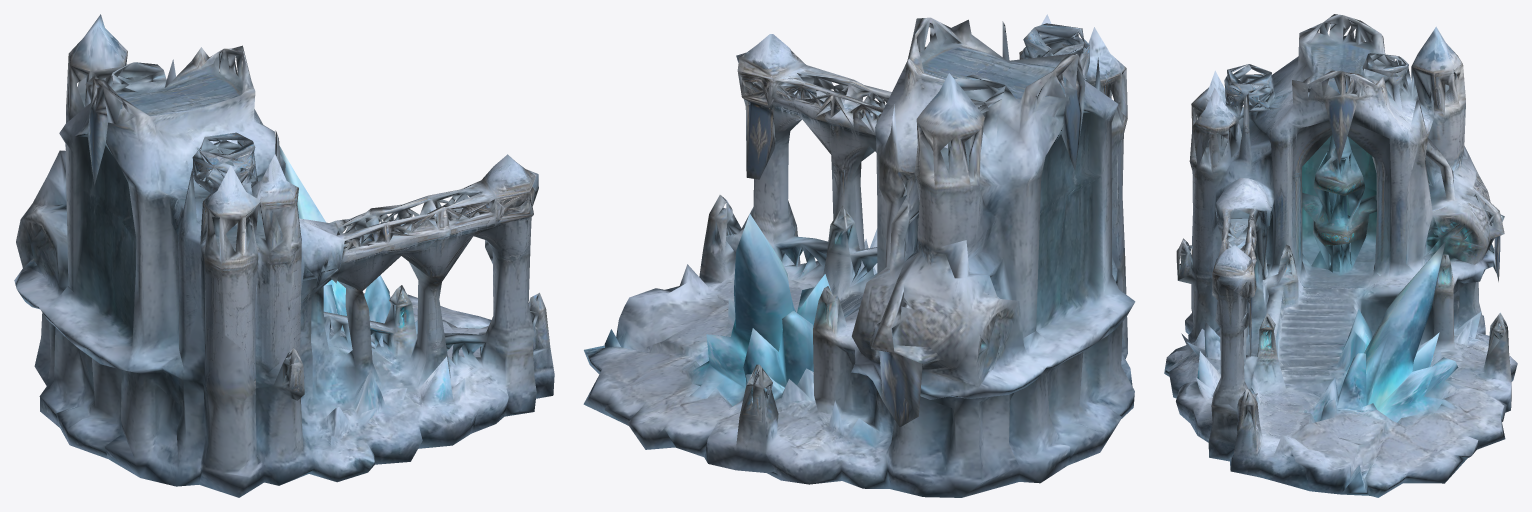
The model's file is env_ci_shard.glb.
The picture shows the model from 3 angles, left to right: view 1: azimuth 30°, elevation 25°; view 2: azimuth 150°, elevation 25°; view 3: azimuth 270°, elevation 25°; orthographic projection. The views are drawn at different scales.
Visible parts, largest first — view 1: tripo_node_8587eeee-718d-4a06-9acf-a14f3b7d7eb5; view 2: tripo_node_8587eeee-718d-4a06-9acf-a14f3b7d7eb5; view 3: tripo_node_8587eeee-718d-4a06-9acf-a14f3b7d7eb5.
Part boxes in pixels (x1,y1,x2,y2): tripo_node_8587eeee-718d-4a06-9acf-a14f3b7d7eb5: (14,14,554,497); tripo_node_8587eeee-718d-4a06-9acf-a14f3b7d7eb5: (583,14,1135,497); tripo_node_8587eeee-718d-4a06-9acf-a14f3b7d7eb5: (1164,14,1517,497).
Size of the model in its own units: 1 by 0.7894 by 0.7862.
Materials: 1 (1 with a texture image).
